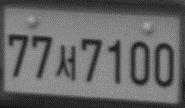0: (128, 41, 150, 85), (153, 42, 174, 87)
1: (108, 38, 123, 86)
7: (29, 33, 53, 79), (79, 37, 103, 83), (7, 32, 29, 79)
서: (55, 43, 77, 81)
